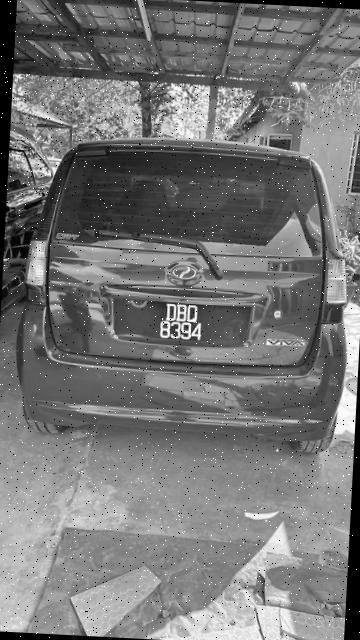License_Plate: (134, 298, 223, 348)
car: (17, 125, 360, 460)
